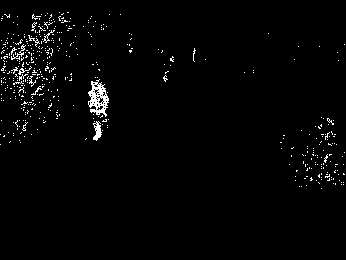person: (87, 80, 109, 142)
